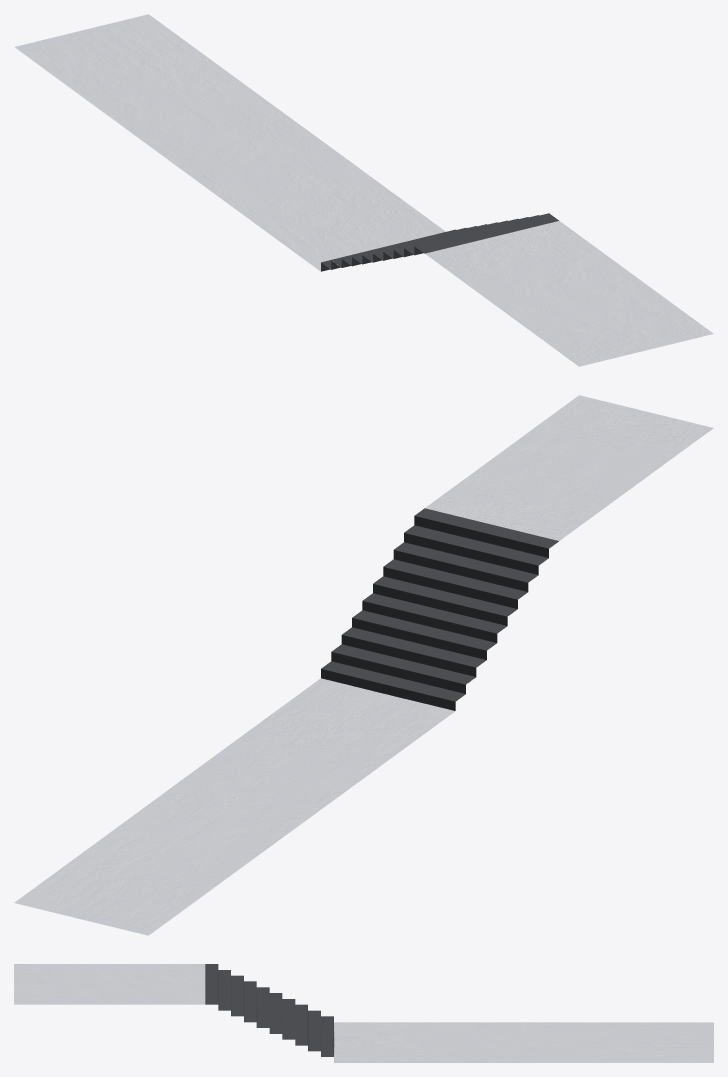
The model's file is floor_room2.fbx.
3 views of the same model, one above another, from view 1: azimuth 30°, elevation 25°; view 2: azimuth 150°, elevation 25°; view 3: azimuth 270°, elevation 25° (orthographic). The views are drawn at different scales.
Visible parts, largest first — view 1: Cube; view 2: Cube; view 3: Cube.
Part boxes in pixels (bbox=[...]): Cube: bbox=[14, 14, 713, 366]; Cube: bbox=[14, 395, 713, 935]; Cube: bbox=[14, 964, 713, 1062].
Bounding box in the file's own units: 300 × 200 × 2179.
Materials: 1 (1 with a texture image).
